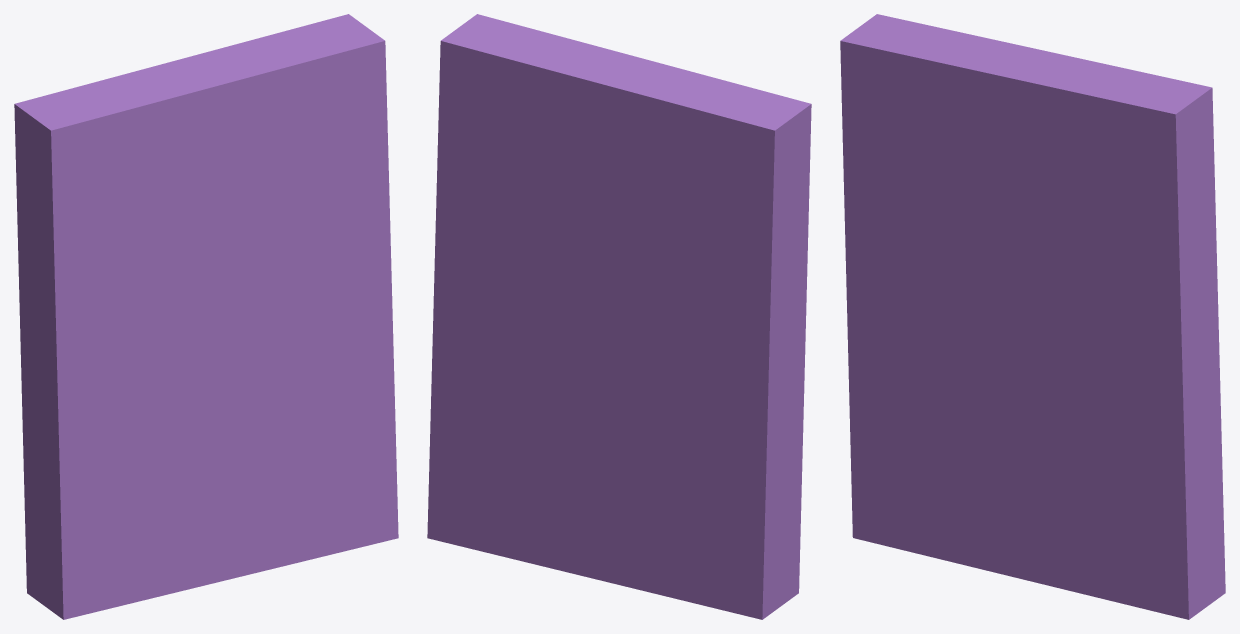
3 views of the same model, side by side, from view 1: azimuth 30°, elevation 25°; view 2: azimuth 150°, elevation 25°; view 3: azimuth 330°, elevation 25° (orthographic).
Parts seen in each view (by area): view 1: geometry_0; view 2: geometry_0; view 3: geometry_0.
Boxes of the visible parts, <box> form: geometry_0: <box>14,14,398,619</box>; geometry_0: <box>427,14,811,619</box>; geometry_0: <box>840,14,1225,619</box>.
Bounding box in the file's own units: 16.44 × 22.62 × 3.
